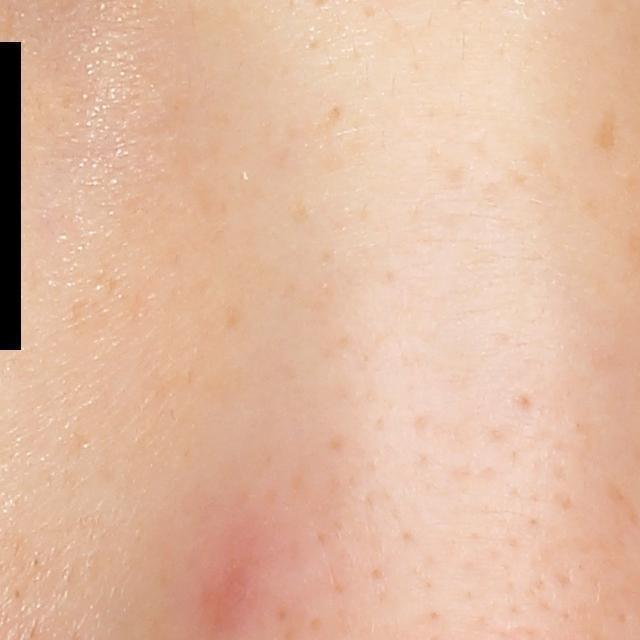melasma: (592, 103, 618, 154)
